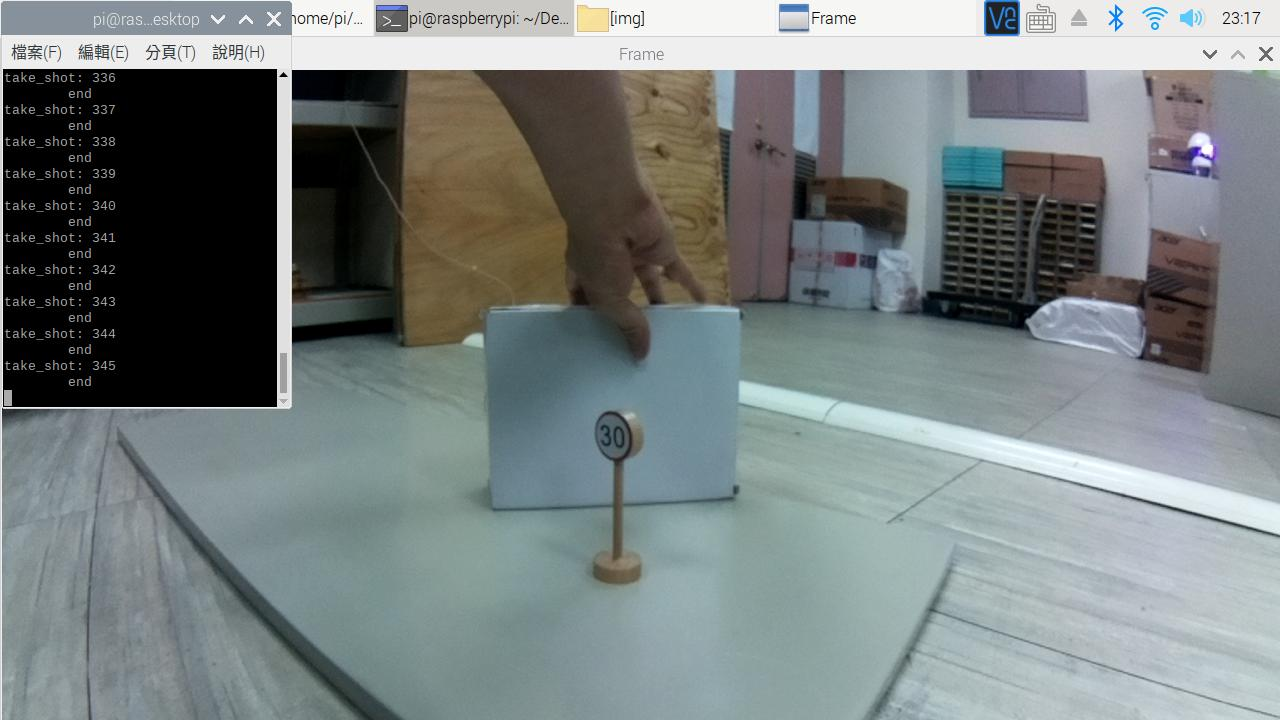Speed30: (577, 405, 670, 468)
